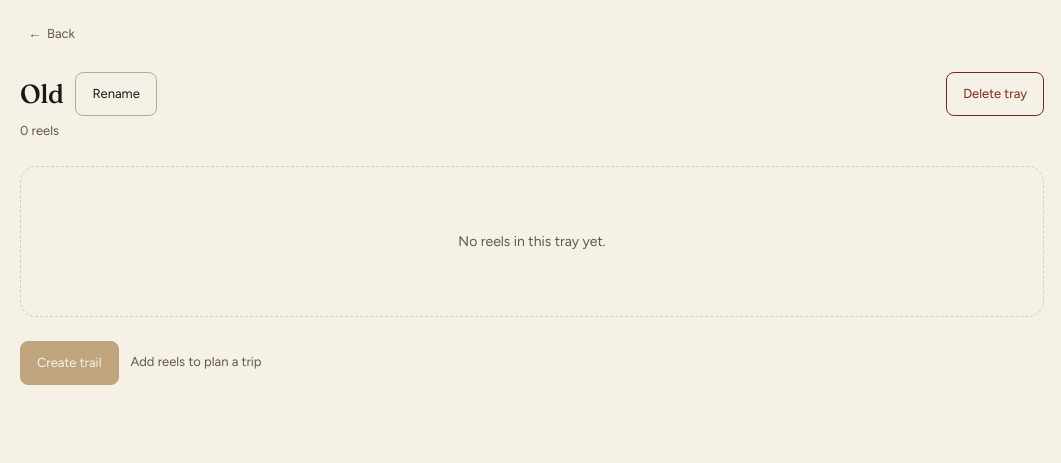
Test: TrayDetail › keeps the rename form open and preserves the typed value when a rename rejects
Click the button "Rename": click(116, 94) [76,72,157,116]
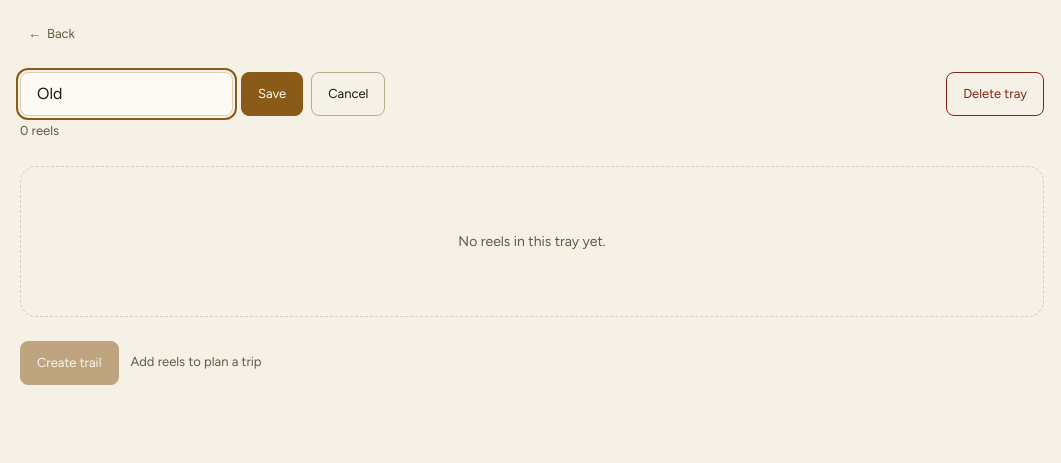
Replace the text in the field named "tray name" with "New name": (126, 94) [20,72,233,116]
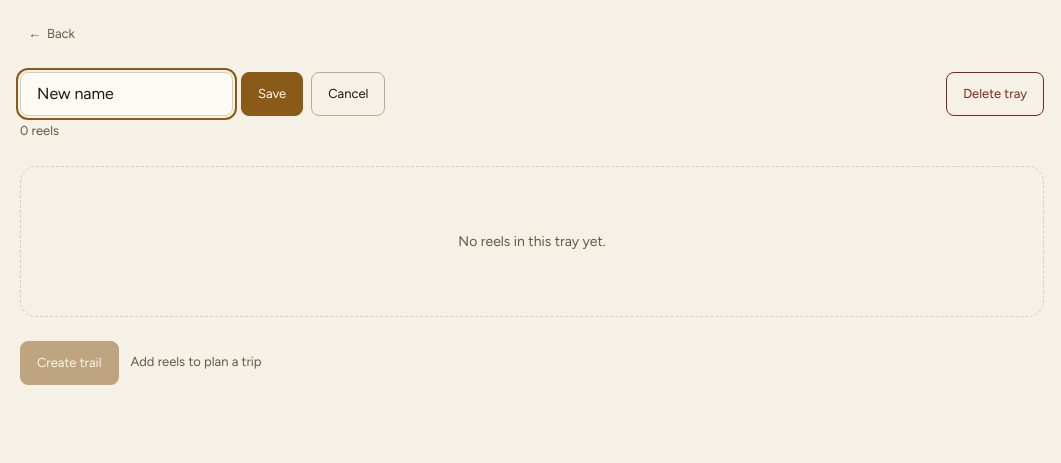
Click the button "Save": click(272, 94) [241,72,303,116]
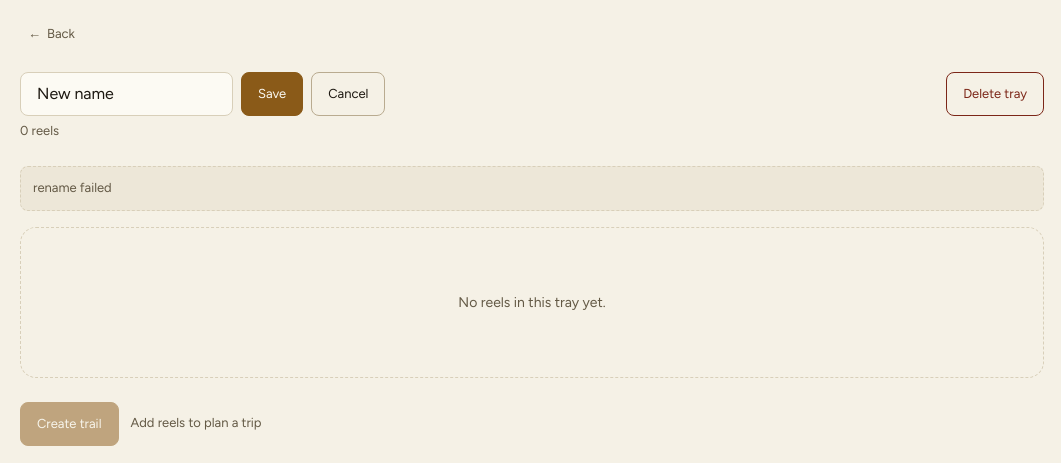
Expected: the field named "tray name" is enabled, [20,72,233,116]
Expected: the message reads "rename failed", [33,180,112,196]
